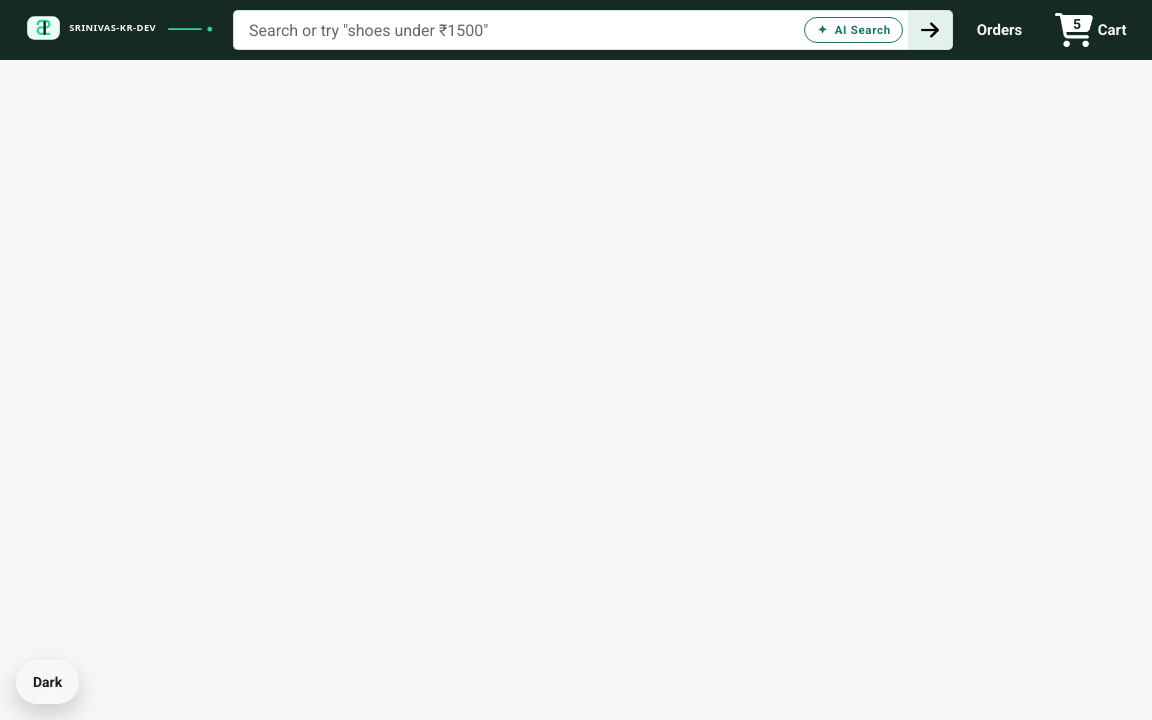
Scenario: Header component › searches with AI when clicking the AI button
Type "running shoes" into the field named "Search products" at (570, 30), box [233,10,908,50]
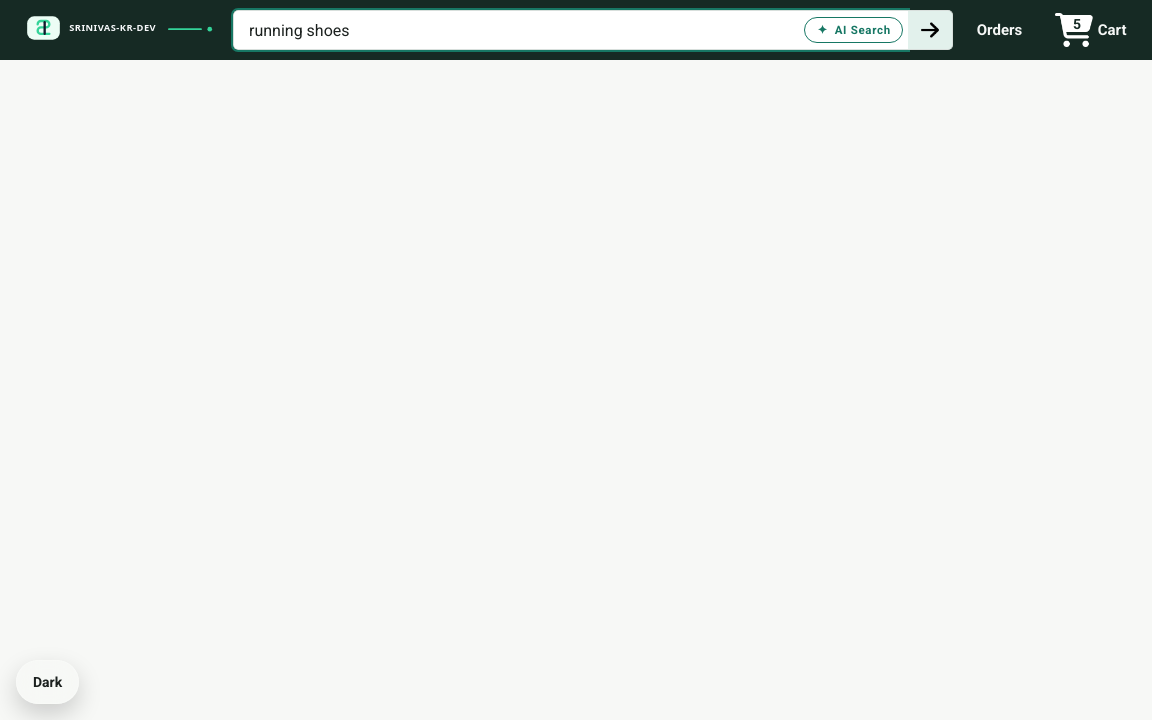
Click the button with aria-label "Search with AI" at (853, 30), box [804,17,903,43]
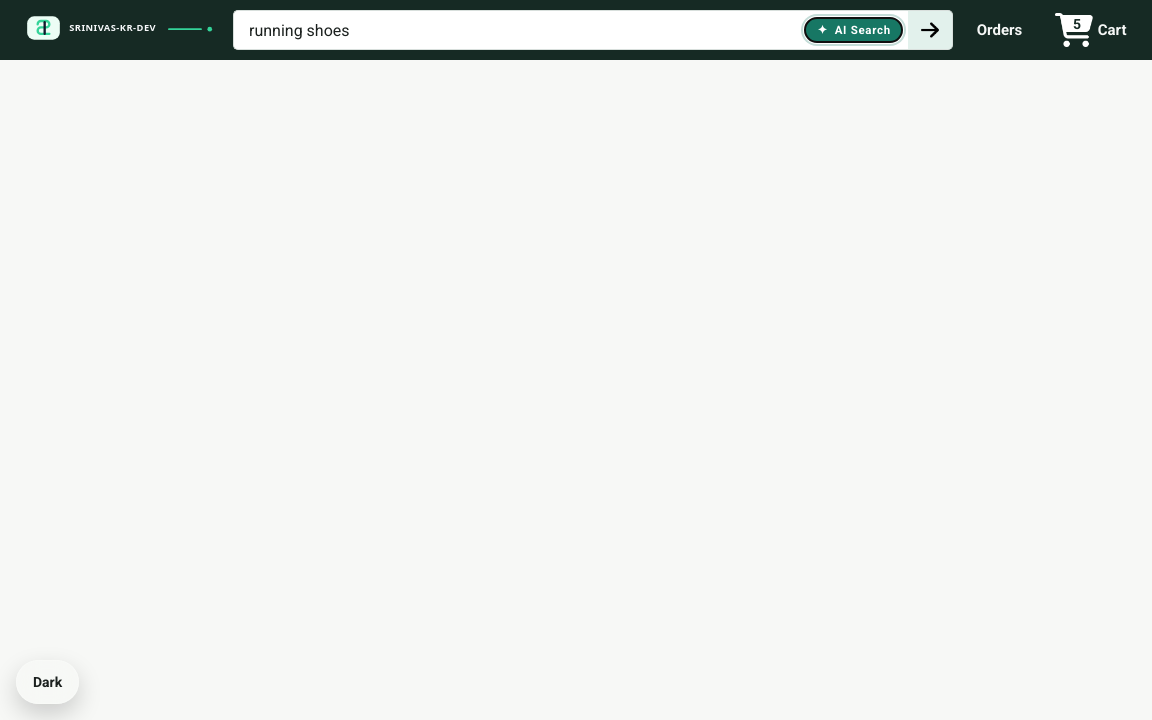
Expected: the text with test id "location-display" reads "/?search=running%20shoes&ai=true", [0,0,256,19]
